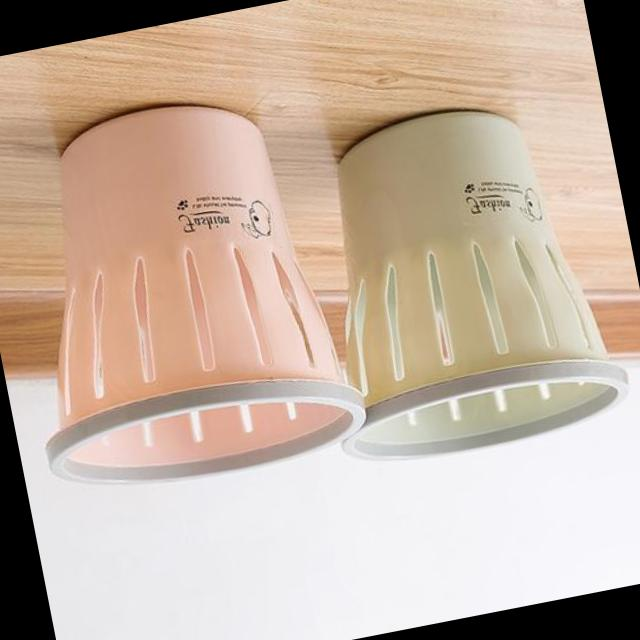dustbin: (0, 71, 378, 512), (280, 78, 640, 483)
